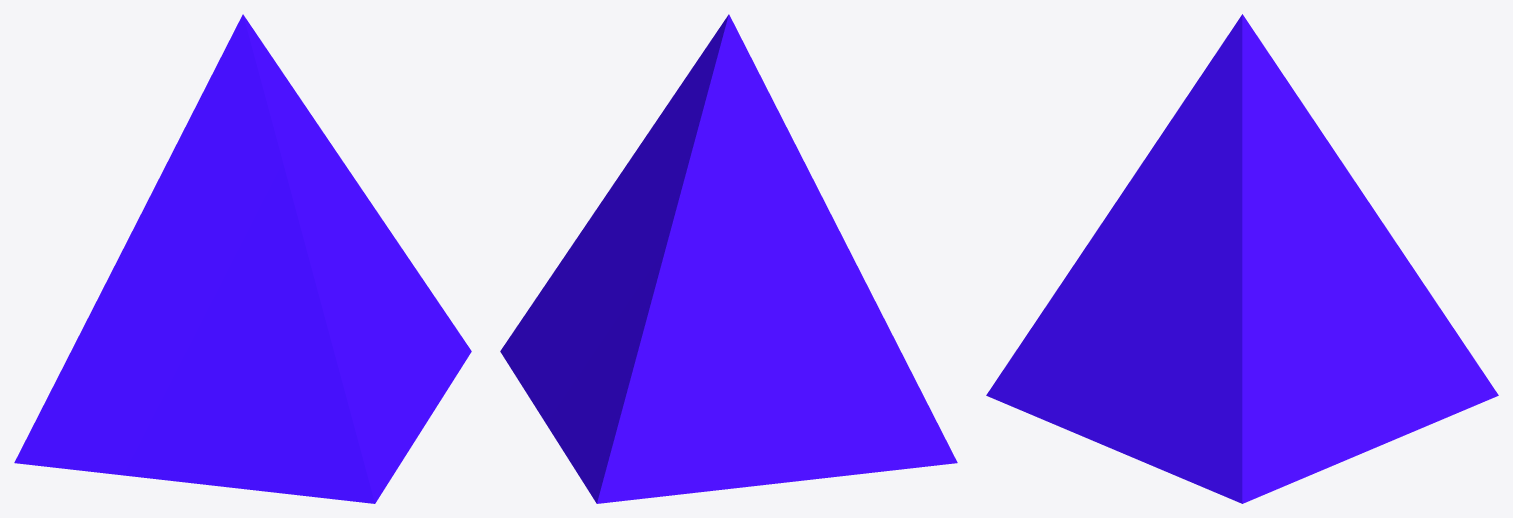
The model's file is BasePyramid.006.glb.
The picture shows the model from 3 angles, left to right: view 1: azimuth 30°, elevation 25°; view 2: azimuth 150°, elevation 25°; view 3: azimuth 270°, elevation 25°; orthographic projection. The views are drawn at different scales.
Parts seen in each view (by area): view 1: BasePyramid.006; view 2: BasePyramid.006; view 3: BasePyramid.006.
Part boxes in pixels (left/top/right/bottom): BasePyramid.006: left=14, top=14, right=471, bottom=503; BasePyramid.006: left=500, top=14, right=957, bottom=503; BasePyramid.006: left=986, top=14, right=1498, bottom=503.
Size of what is drawn, in the model's own units: 0.9142 by 0.7506 by 0.9142.
1 material, 1 textured.
